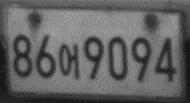0: (107, 36, 127, 80)
4: (153, 37, 178, 84)
6: (34, 34, 56, 79)
8: (12, 34, 33, 77)
9: (129, 36, 151, 83), (82, 35, 104, 80)
어: (58, 43, 80, 80)
